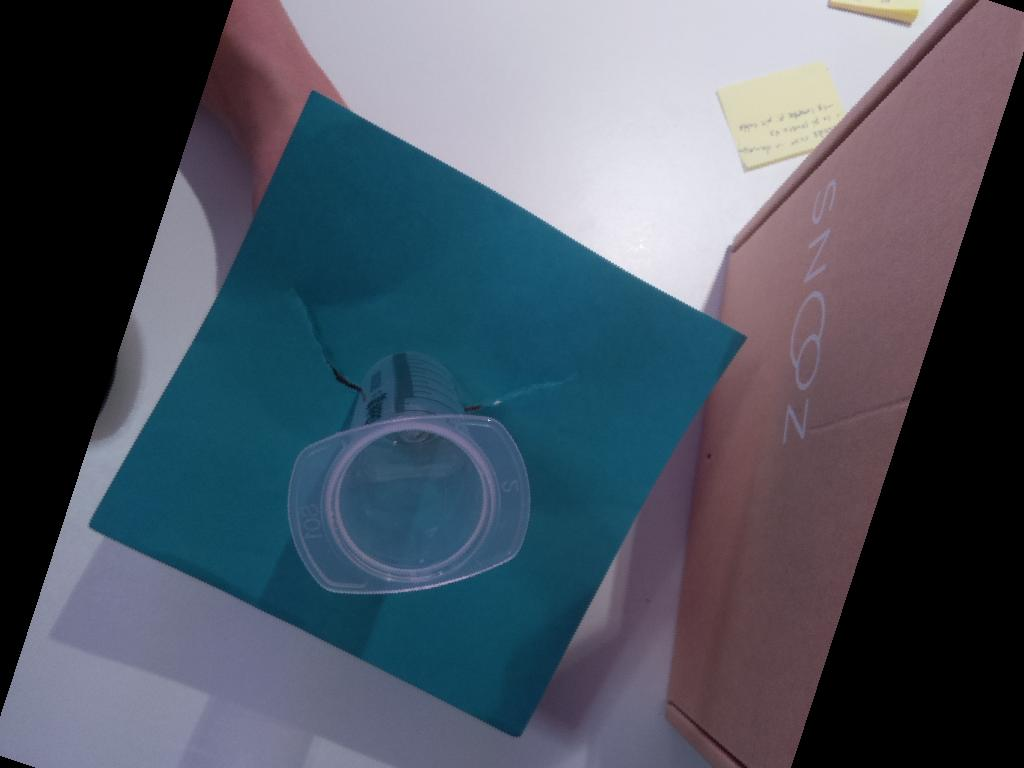clean: (282, 412, 533, 597)
